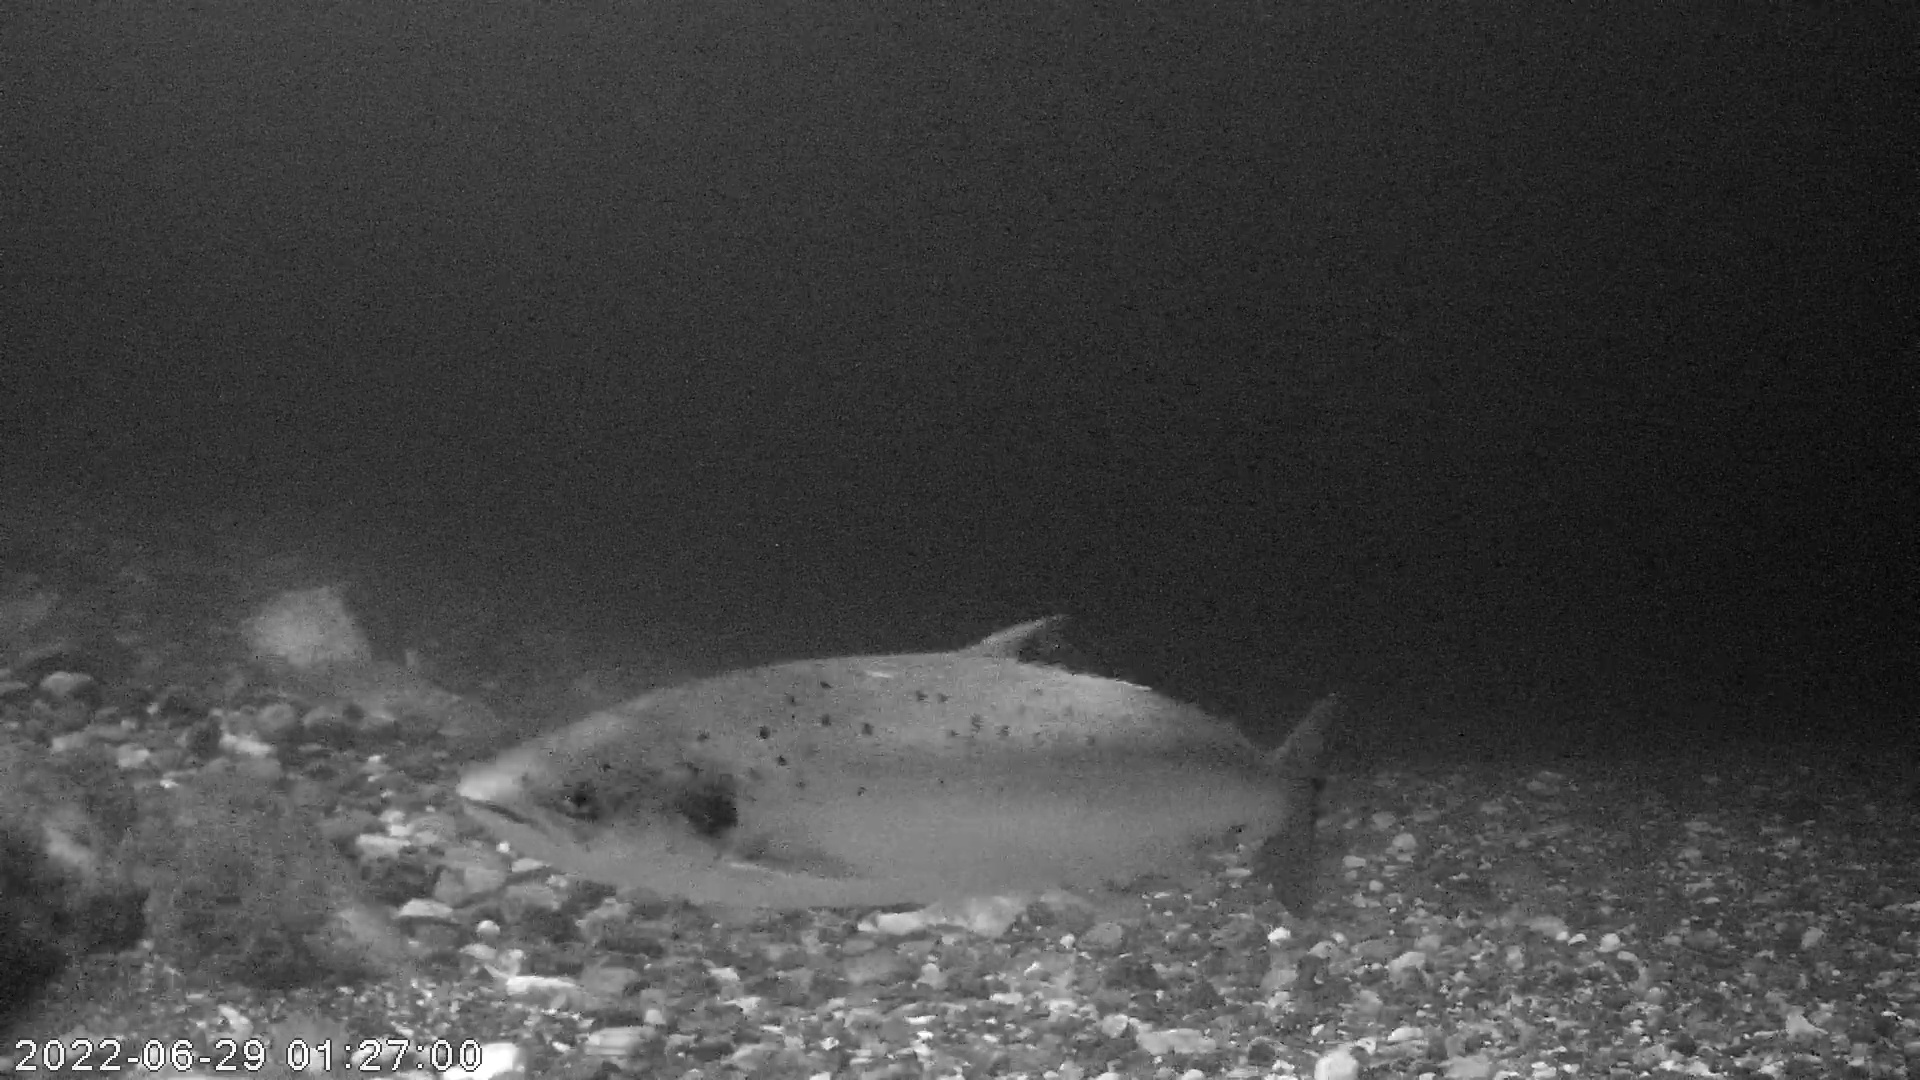salmon: (471, 584, 1315, 943)
